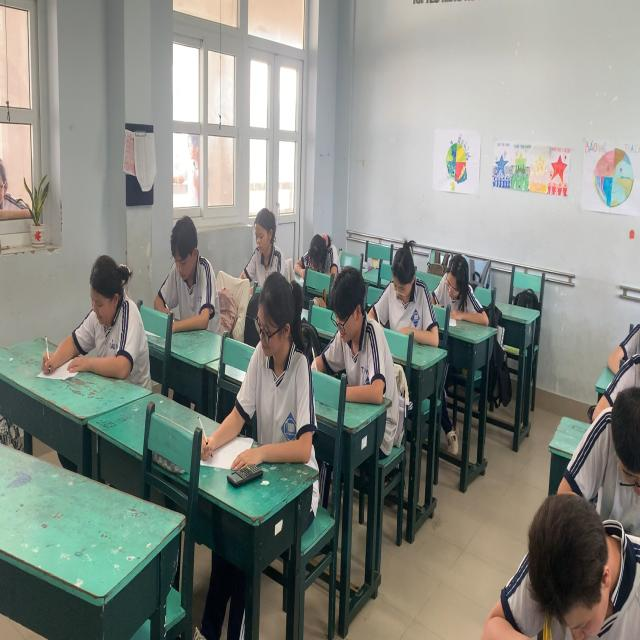not_cheating: (495, 490, 634, 640), (68, 254, 142, 364), (248, 258, 305, 399), (162, 220, 202, 300), (330, 260, 367, 340), (435, 251, 468, 309), (390, 237, 414, 316), (247, 206, 276, 268), (303, 227, 334, 279)
